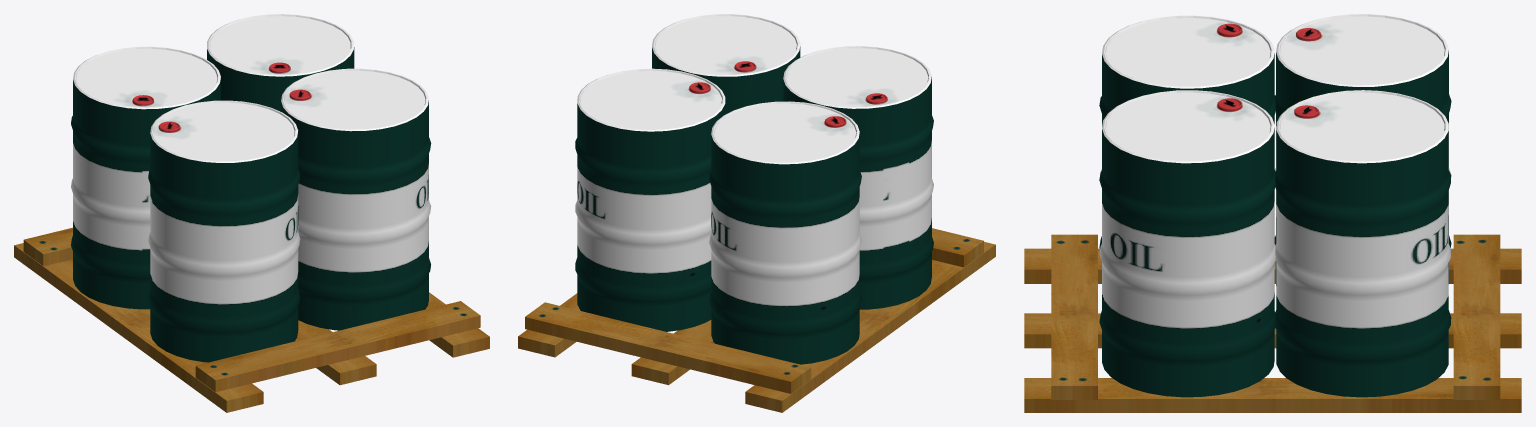
The model's file is Oil Drums.obj.
3 renders of one model, left to right at view 1: azimuth 30°, elevation 25°; view 2: azimuth 150°, elevation 25°; view 3: azimuth 270°, elevation 25°, orthographic. The views are drawn at different scales.
Parts seen in each view (by area): view 1: Cylinder004, Cylinder003, Cylinder001, Cylinder002, Box004, Box003, Box002, Box006, Box001; view 2: Cylinder001, Cylinder002, Cylinder004, Cylinder003, Box006, Box003, Box002, Box004, Box001; view 3: Cylinder002, Cylinder003, Cylinder001, Cylinder004, Box001, Box006, Box004, Box002, Box003.
Part boxes in pixels (x1,y1,x2,y2): Cylinder004: [148, 100, 300, 362]; Cylinder003: [281, 68, 431, 330]; Cylinder001: [71, 46, 220, 309]; Cylinder002: [207, 14, 354, 111]; Box004: [195, 301, 480, 392]; Box003: [14, 243, 263, 412]; Box002: [295, 320, 376, 385]; Box006: [23, 227, 72, 266]; Box001: [425, 292, 489, 357]; Cylinder001: [709, 101, 861, 364]; Cylinder002: [575, 68, 725, 331]; Cylinder004: [783, 46, 933, 309]; Cylinder003: [652, 14, 800, 114]; Box006: [525, 302, 811, 393]; Box003: [745, 241, 995, 412]; Box002: [631, 320, 714, 385]; Box004: [932, 228, 983, 267]; Box001: [518, 293, 580, 357]; Cylinder002: [1275, 90, 1451, 397]; Cylinder003: [1099, 90, 1275, 397]; Cylinder001: [1275, 14, 1451, 285]; Cylinder004: [1099, 15, 1275, 248]; Box001: [1024, 378, 1521, 412]; Box006: [1453, 234, 1500, 399]; Box004: [1051, 234, 1097, 399]; Box002: [1024, 313, 1521, 348]; Box003: [1024, 248, 1521, 283].
Bounding box in the file's own units: 70.47 × 54.77 × 97.39.
